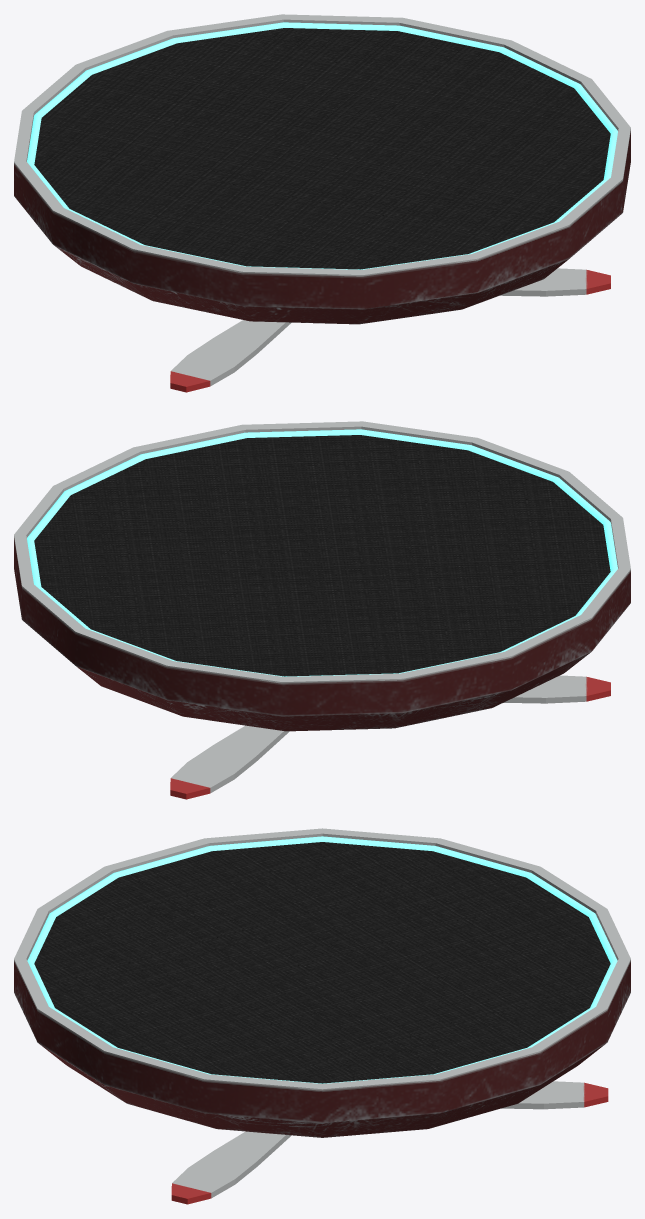
File: SharedPlatform.glb
3 renders of one model, top to bottom at view 1: azimuth 30°, elevation 25°; view 2: azimuth 150°, elevation 25°; view 3: azimuth 270°, elevation 25°, orthographic.
Parts seen in each view (by area): view 1: Object_6; view 2: Object_6; view 3: Object_6.
Boxes of the visible parts, left/top/right/bottom form: Object_6: left=14, top=14, right=630, bottom=392; Object_6: left=14, top=421, right=630, bottom=799; Object_6: left=14, top=828, right=630, bottom=1204.
Bounding box in the file's own units: 1.47 × 0.3814 × 1.47.
Materials: 1 (1 with a texture image).
